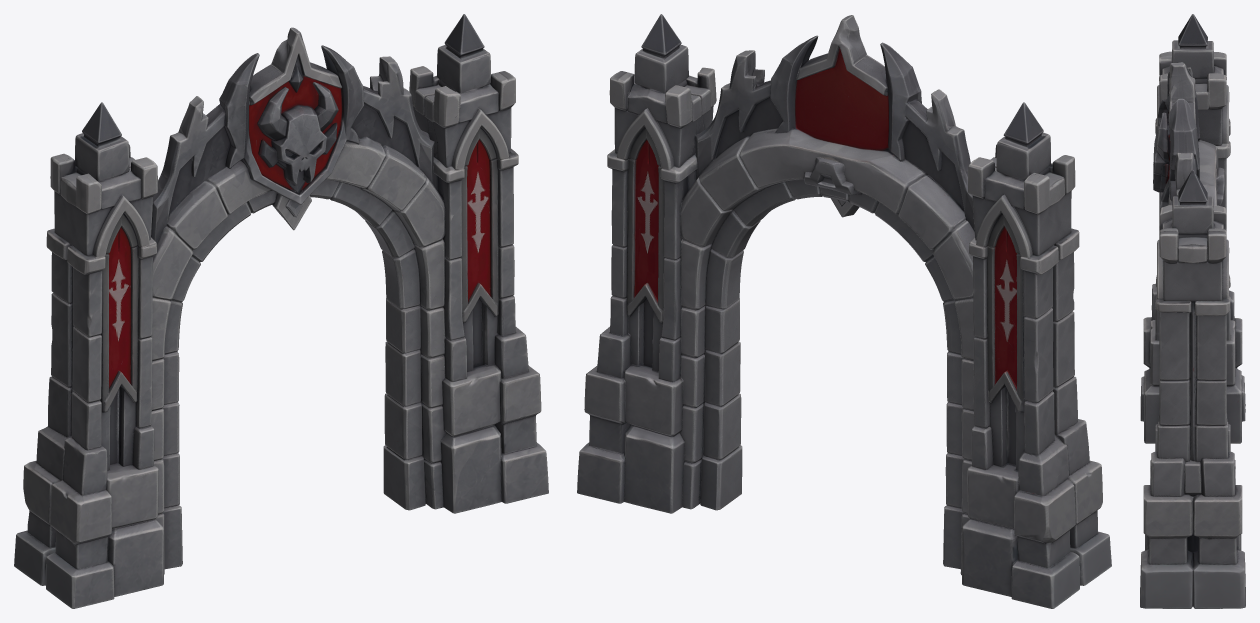
File: ENV_Entrance_Up_01.fbx
The picture shows the model from 3 angles, left to right: view 1: azimuth 30°, elevation 25°; view 2: azimuth 150°, elevation 25°; view 3: azimuth 270°, elevation 25°; orthographic projection. The views are drawn at different scales.
Visible parts, largest first — view 1: Mesh_0; view 2: Mesh_0; view 3: Mesh_0.
Boxes of the visible parts, left/top/right/bottom form: Mesh_0: left=14, top=14, right=548, bottom=608; Mesh_0: left=577, top=14, right=1111, bottom=608; Mesh_0: left=1140, top=14, right=1245, bottom=608.
Size of the model in its own units: 11.93 by 12 by 2.59.
1 material, 1 textured.
